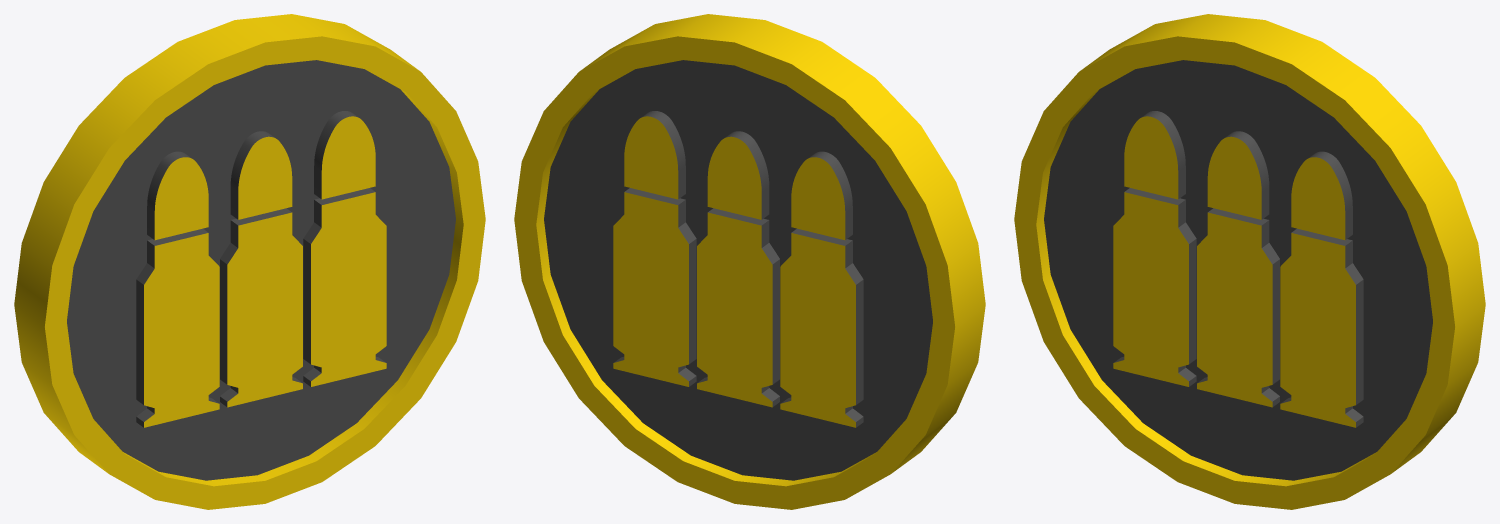
Rendered from Ammo_Pickup.fbx.
The picture shows the model from 3 angles, left to right: view 1: azimuth 30°, elevation 25°; view 2: azimuth 150°, elevation 25°; view 3: azimuth 330°, elevation 25°; orthographic projection.
Parts seen in each view (by area): view 1: Group1, Group3; view 2: Group1, Group2; view 3: Group1, Group3.
Boxes of the visible parts, bbox=[...] form: Group1: bbox=[14, 14, 485, 509]; Group3: bbox=[136, 111, 386, 427]; Group1: bbox=[514, 14, 985, 509]; Group2: bbox=[613, 111, 863, 427]; Group1: bbox=[1014, 14, 1485, 509]; Group3: bbox=[1113, 111, 1363, 427].
Size of the model in its own units: 250 by 250 by 30.
